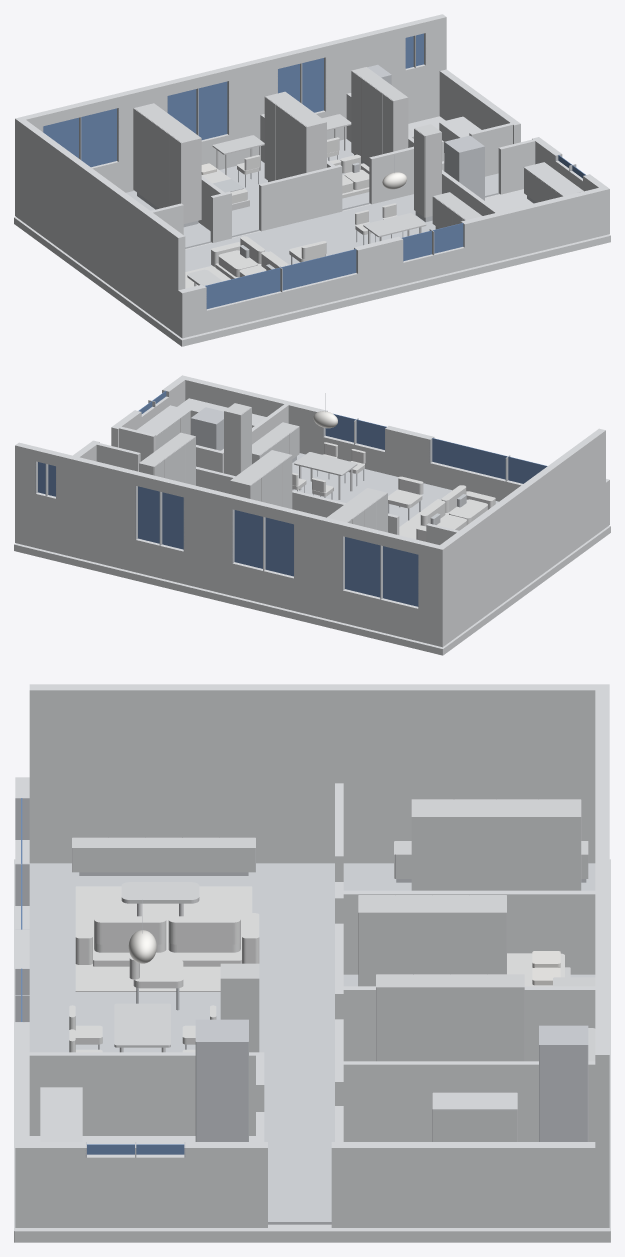
Rendered from interior.glb.
3 renders of one model, top to bottom at view 1: azimuth 30°, elevation 25°; view 2: azimuth 150°, elevation 25°; view 3: azimuth 270°, elevation 25°, orthographic. The views are drawn at different scales.
Visible parts, largest first — view 1: W03 W03.002, W01 W01.016, Presentation foundation Presentation foundation, W02 W02.031, W05 W05.016, R07 floor R07 floor, WIN01 glazing WIN01 glazing.001, W01 W01.013, W02 W02.028, WIN03 glazing WIN03 glazing.001, J01 carcass, W04 W04.013 (+51 smaller); view 2: W03 W03.002, W02 W02.031, Presentation foundation Presentation foundation, W02 W02.025, W02 W02.028, WIN03 glazing WIN03 glazing.001, W01 W01.016, WIN04 glazing WIN04 glazing.001, W02 W02.022, R01 floor R01 floor, W02 W02.023, WIN01 glazing WIN01 glazing.001 (+39 smaller); view 3: W03 W03.002, R07 floor R07 floor, W04 W04.013, R01 floor R01 floor, J01 carcass, J04 carcass, W09 W09.002, W08 W08.002, J02 carcass, Presentation foundation Presentation foundation, W06 W06.002, W04 W04.011 (+32 smaller).
Boxes of the visible parts, box(x1,y1,x2,y2) form: W03 W03.002: box(19, 120, 185, 334); W01 W01.016: box(461, 186, 609, 269); Presentation foundation Presentation foundation: box(14, 194, 610, 346); W02 W02.031: box(322, 24, 405, 140); W05 W05.016: box(259, 164, 342, 231); R07 floor R07 floor: box(185, 173, 499, 269); WIN01 glazing WIN01 glazing.001: box(205, 249, 356, 308); W01 W01.013: box(206, 273, 358, 332); W02 W02.028: box(225, 55, 277, 167); WIN03 glazing WIN03 glazing.001: box(43, 108, 116, 167); J01 carcass: box(134, 103, 201, 223); W04 W04.013: box(439, 69, 520, 143); W03 W03.002: box(440, 428, 605, 643); W02 W02.031: box(56, 452, 138, 572); Presentation foundation Presentation foundation: box(14, 525, 610, 655); W02 W02.025: box(294, 510, 346, 622); W02 W02.028: box(184, 484, 235, 595); WIN03 glazing WIN03 glazing.001: box(345, 537, 418, 606); W01 W01.016: box(178, 375, 326, 454); WIN04 glazing WIN04 glazing.001: box(234, 510, 293, 576); W02 W02.022: box(418, 541, 446, 647); R01 floor R01 floor: box(292, 453, 498, 526); W02 W02.023: box(342, 589, 418, 641); WIN01 glazing WIN01 glazing.001: box(432, 438, 547, 483); W03 W03.002: box(29, 684, 595, 863); R07 floor R07 floor: box(264, 863, 334, 1224); W04 W04.013: box(331, 1142, 595, 1227); R01 floor R01 floor: box(29, 863, 264, 1052); J01 carcass: box(411, 799, 581, 890); J04 carcass: box(376, 974, 524, 1061); W09 W09.002: box(29, 1052, 264, 1135); W08 W08.002: box(343, 1061, 595, 1141); J02 carcass: box(358, 895, 506, 986); Presentation foundation Presentation foundation: box(14, 859, 610, 1242); W06 W06.002: box(343, 890, 595, 974); W04 W04.011: box(86, 1154, 185, 1227).
Size of the model in its own units: 12.44 by 2.92 by 8.44.
